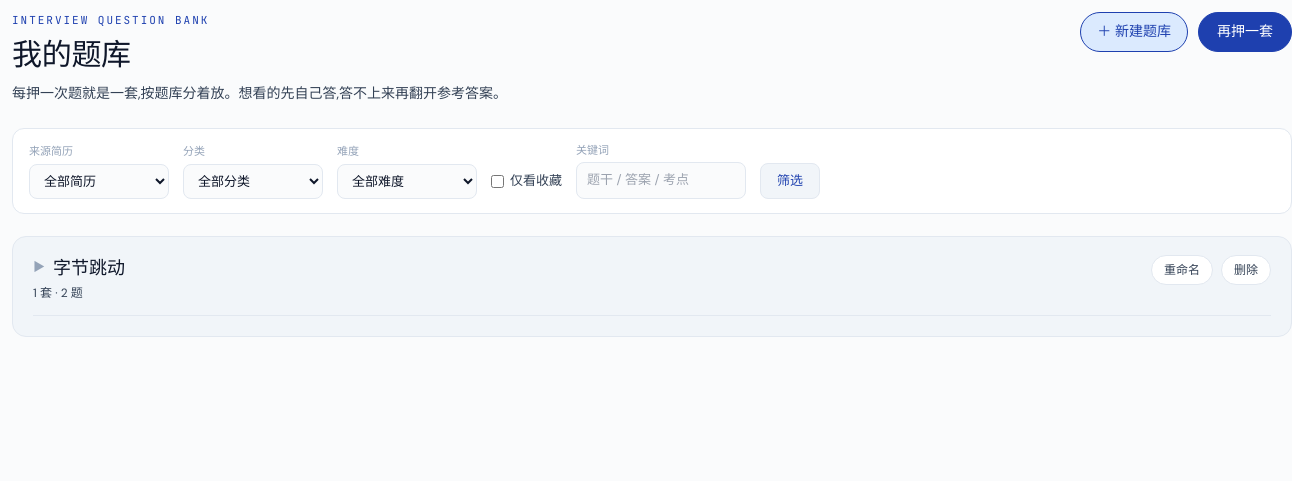
Test case: QuestionBank · 题库管理 › 删题库:二次确认报「会删几套几题」,确认后题库块消失
The width and height of the screenshot is (1292, 481).
What coordinates should you click on to do the following:
click the button "删除"
I would click on:
 (1246, 270)
Its box is top-left (1221, 255), bottom-right (1271, 285).
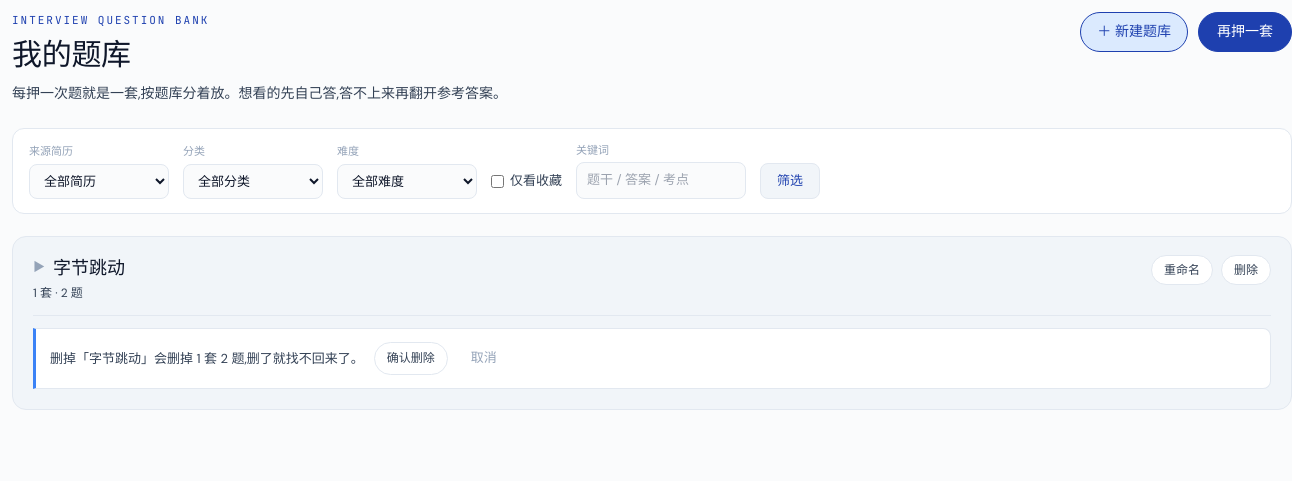
Check: the text "删掉「字节跳动」会删掉 1 套 2 题,删了就找不回来了。" is shown, box top-left (50, 348), bottom-right (364, 370)
What coordinates should you click on to do the following:
click the button "确认删除"
I would click on:
 (411, 359)
Its box is top-left (374, 342), bottom-right (448, 375).
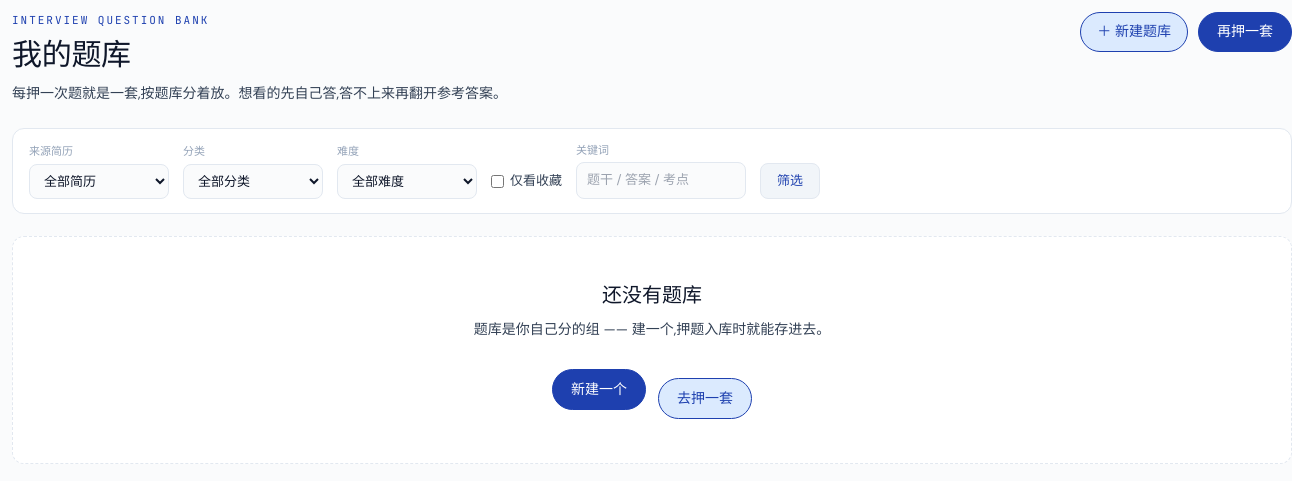
Check: the heading "▶ 字节跳动" is gone
